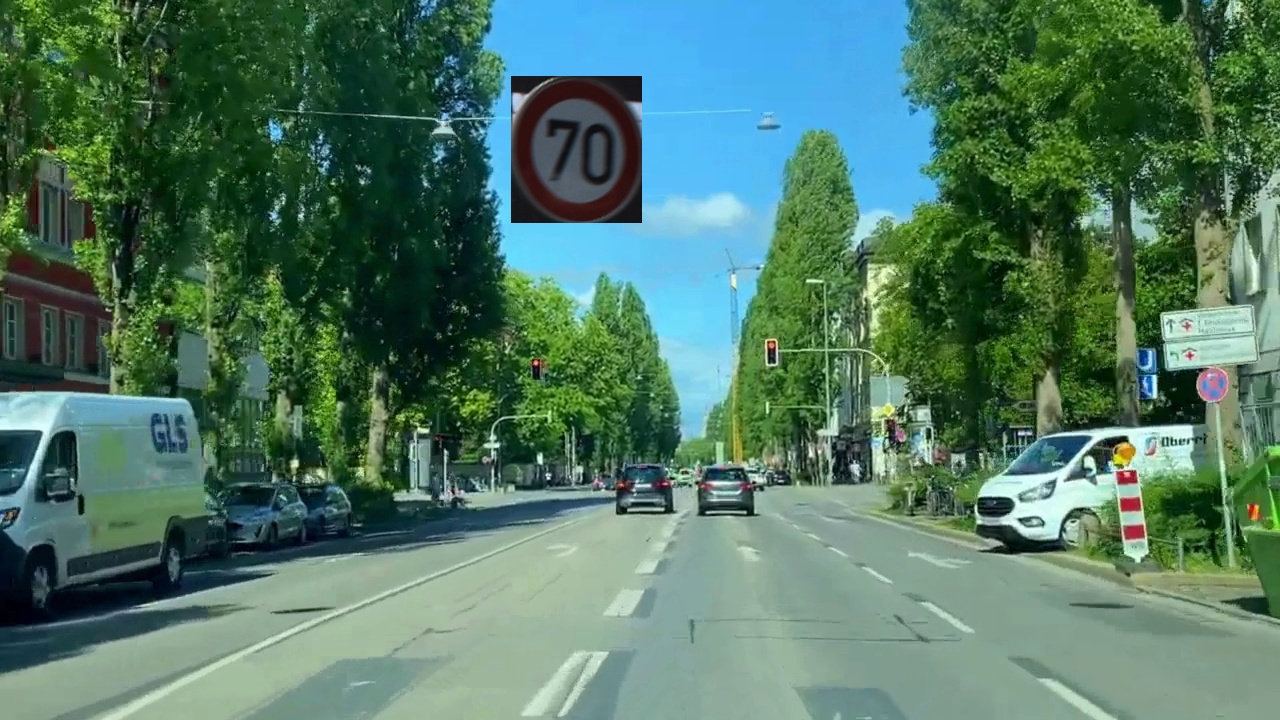Speed 70: (511, 76, 642, 223)
